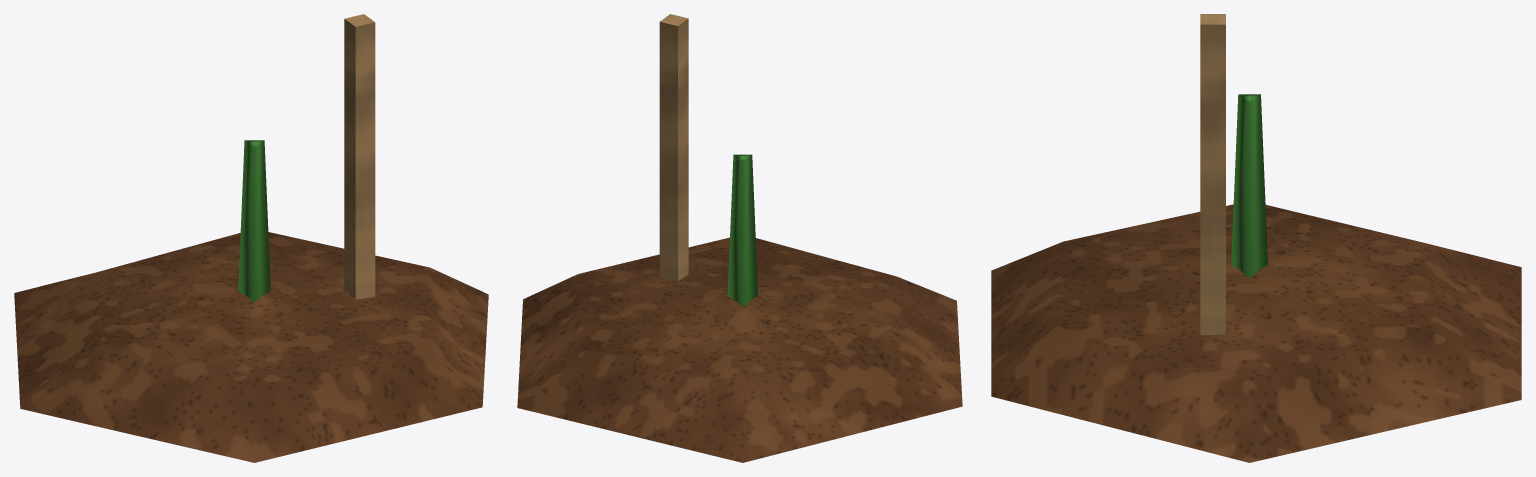
The model's file is plant-tomato-1-far.glb.
The picture shows the model from 3 angles, left to right: view 1: azimuth 30°, elevation 25°; view 2: azimuth 150°, elevation 25°; view 3: azimuth 270°, elevation 25°; orthographic projection. The views are drawn at different scales.
Parts seen in each view (by area): view 1: plant-tomato-1-far; view 2: plant-tomato-1-far; view 3: plant-tomato-1-far.
Boxes of the visible parts, box(x1,y1,x2,y2) form: plant-tomato-1-far: box(14, 14, 488, 462); plant-tomato-1-far: box(517, 14, 962, 462); plant-tomato-1-far: box(991, 14, 1521, 462).
Size of the model in its own units: 0.84 by 0.5502 by 0.7275.
Materials: 4 (2 with a texture image).
